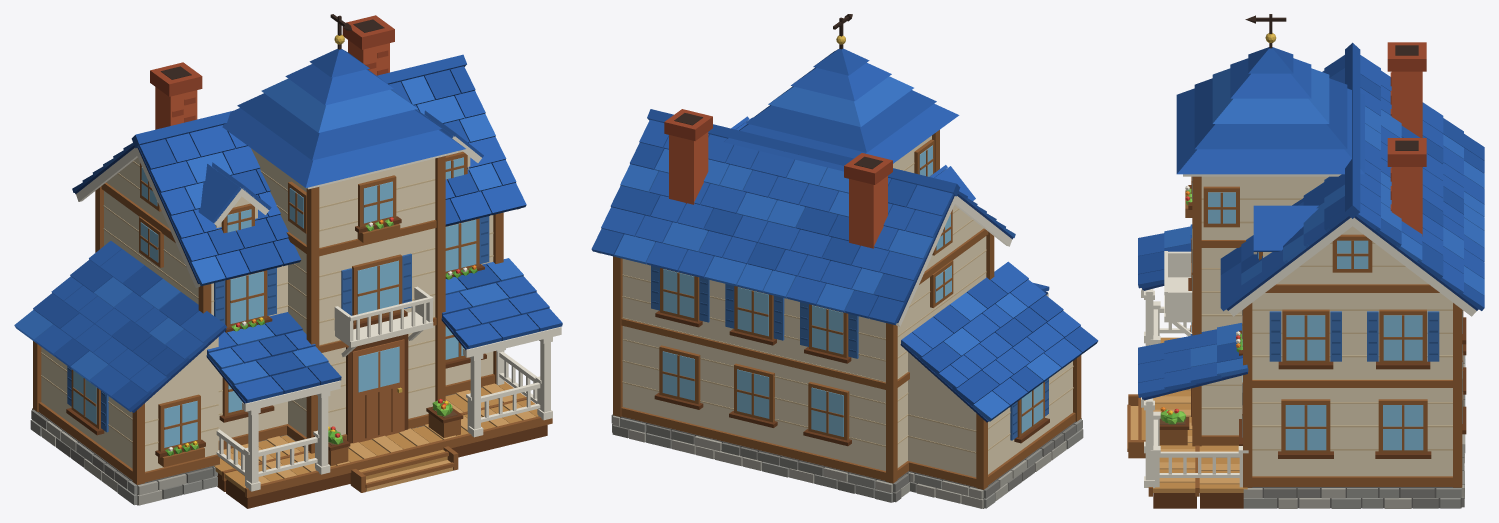
File: house-5.glb
3 renders of one model, left to right at view 1: azimuth 30°, elevation 25°; view 2: azimuth 150°, elevation 25°; view 3: azimuth 270°, elevation 25°, orthographic. The views are drawn at different scales.
Parts seen in each view (by area): view 1: H5_Roof, H5_Porch, H5_Walls, H5_Openings, H5_Timber, H5_Props, H5_Foundation; view 2: H5_Roof, H5_Walls, H5_Openings, H5_Timber, H5_Foundation, H5_Props; view 3: H5_Roof, H5_Walls, H5_Porch, H5_Openings, H5_Timber, H5_Props, H5_Foundation.
Boxes of the visible parts, <box> form: H5_Roof: <box>14,14,526,412</box>; H5_Porch: <box>206,258,562,508</box>; H5_Walls: <box>41,148,493,471</box>; H5_Openings: <box>66,151,489,467</box>; H5_Timber: <box>33,156,503,484</box>; H5_Props: <box>150,15,463,465</box>; H5_Foundation: <box>30,387,482,505</box>; H5_Roof: <box>591,14,1098,422</box>; H5_Walls: <box>622,135,1073,477</box>; H5_Openings: <box>651,139,1049,446</box>; H5_Timber: <box>613,130,1081,489</box>; H5_Foundation: <box>611,414,1083,508</box>; H5_Props: <box>664,109,892,248</box>; H5_Roof: <box>1176,14,1484,316</box>; H5_Walls: <box>1201,176,1452,476</box>; H5_Porch: <box>1127,224,1248,508</box>; H5_Openings: <box>1185,176,1466,458</box>; H5_Timber: <box>1192,176,1462,487</box>; H5_Props: <box>1159,42,1426,445</box>; H5_Foundation: <box>1243,355,1465,508</box>.
Size of the model in its own units: 6.13 by 5.95 by 4.59.
